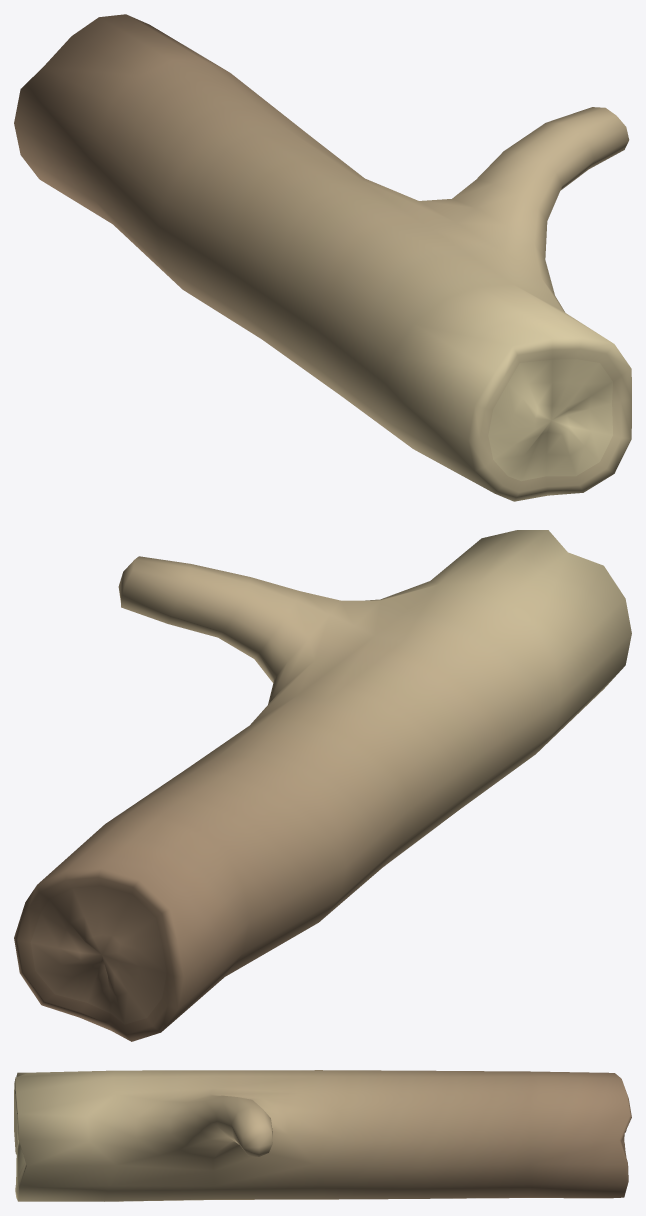
File: WoodenLog-Capped-1.fbx
3 views of the same model, one above another, from view 1: azimuth 30°, elevation 25°; view 2: azimuth 150°, elevation 25°; view 3: azimuth 270°, elevation 25° (orthographic). The views are drawn at different scales.
Parts seen in each view (by area): view 1: Wood.004; view 2: Wood.004; view 3: Wood.004.
Boxes of the visible parts, box(x1,y1,x2,y2) form: Wood.004: box(14, 14, 631, 501); Wood.004: box(14, 530, 631, 1041); Wood.004: box(14, 1070, 631, 1201).
Bounding box in the file's own units: 129 × 78.25 × 297.
